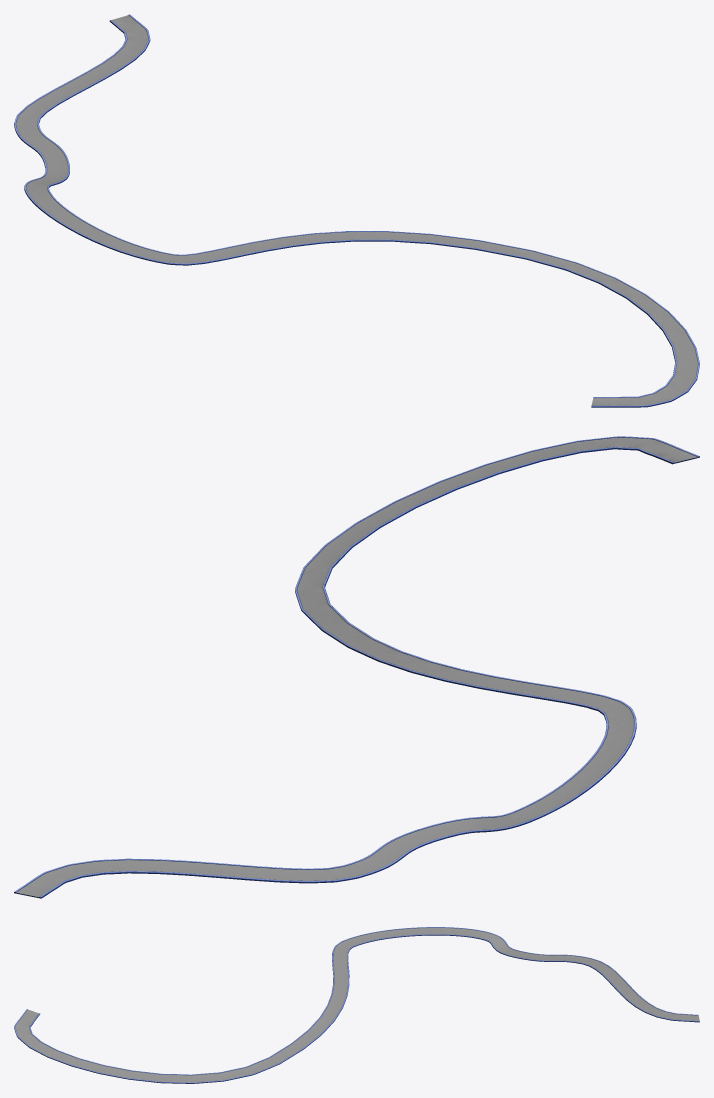
Rendered from Street_TerrainFit_V1_galad.glb.
The picture shows the model from 3 angles, top to bottom: view 1: azimuth 30°, elevation 25°; view 2: azimuth 150°, elevation 25°; view 3: azimuth 270°, elevation 25°; orthographic projection. The views are drawn at different scales.
Parts seen in each view (by area): view 1: street.008; view 2: street.008; view 3: street.008.
Boxes of the visible parts, left/top/right/bottom form: street.008: left=14, top=14, right=699, bottom=407; street.008: left=14, top=436, right=699, bottom=898; street.008: left=14, top=927, right=699, bottom=1083.
Bounding box in the file's own units: 131 × 12.45 × 291.
1 material, 1 textured.
